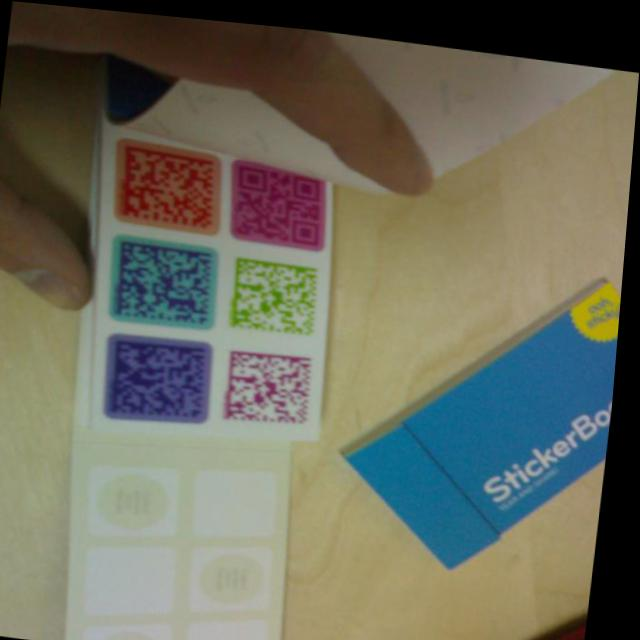qrcode: (234, 160, 329, 240)
